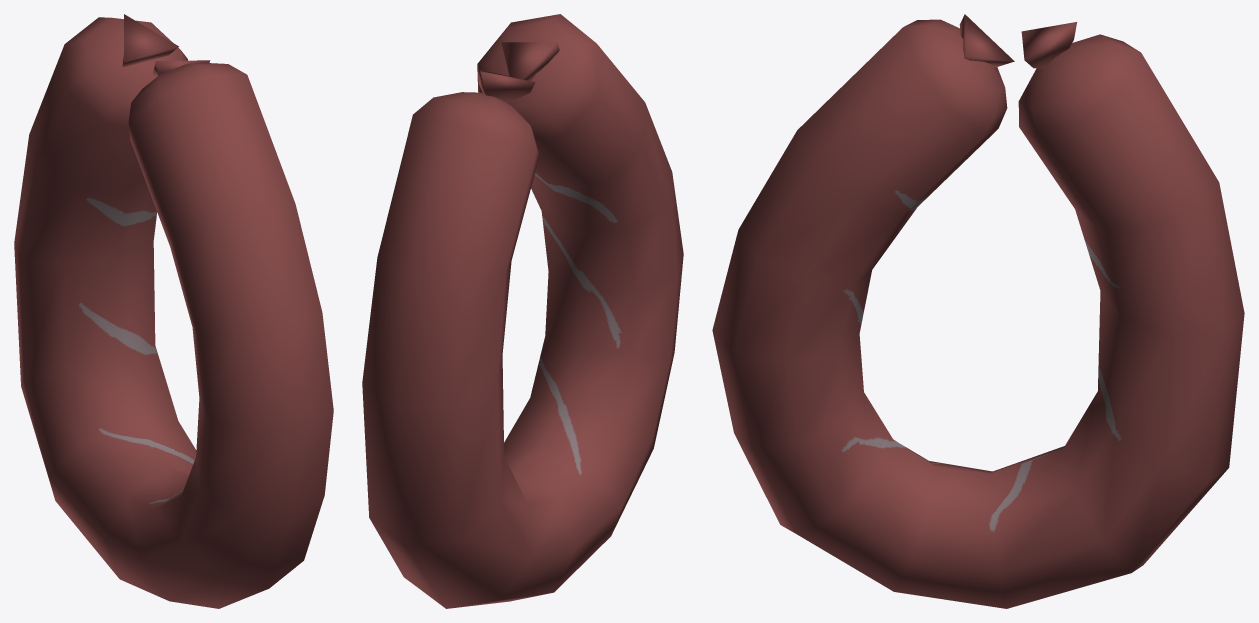
File: Obj_Sausage02_Isolated.fbx
3 renders of one model, left to right at view 1: azimuth 30°, elevation 25°; view 2: azimuth 150°, elevation 25°; view 3: azimuth 270°, elevation 25°, orthographic. The views are drawn at different scales.
Parts seen in each view (by area): view 1: Sausage.001, Cylinder.002; view 2: Sausage.001, Cylinder.002; view 3: Sausage.001, Cylinder.002.
Part boxes in pixels (x1=…): Sausage.001: x1=14, y1=17, x2=333, y2=608; Cylinder.002: x1=122, y1=14, x2=210, y2=77; Sausage.001: x1=362, y1=14, x2=683, y2=608; Cylinder.002: x1=477, y1=42, x2=559, y2=103; Sausage.001: x1=712, y1=19, x2=1244, y2=608; Cylinder.002: x1=959, y1=14, x2=1076, y2=68.
Size of the model in its own units: 70.58 by 274 by 227.
Materials: 1 (1 with a texture image).
